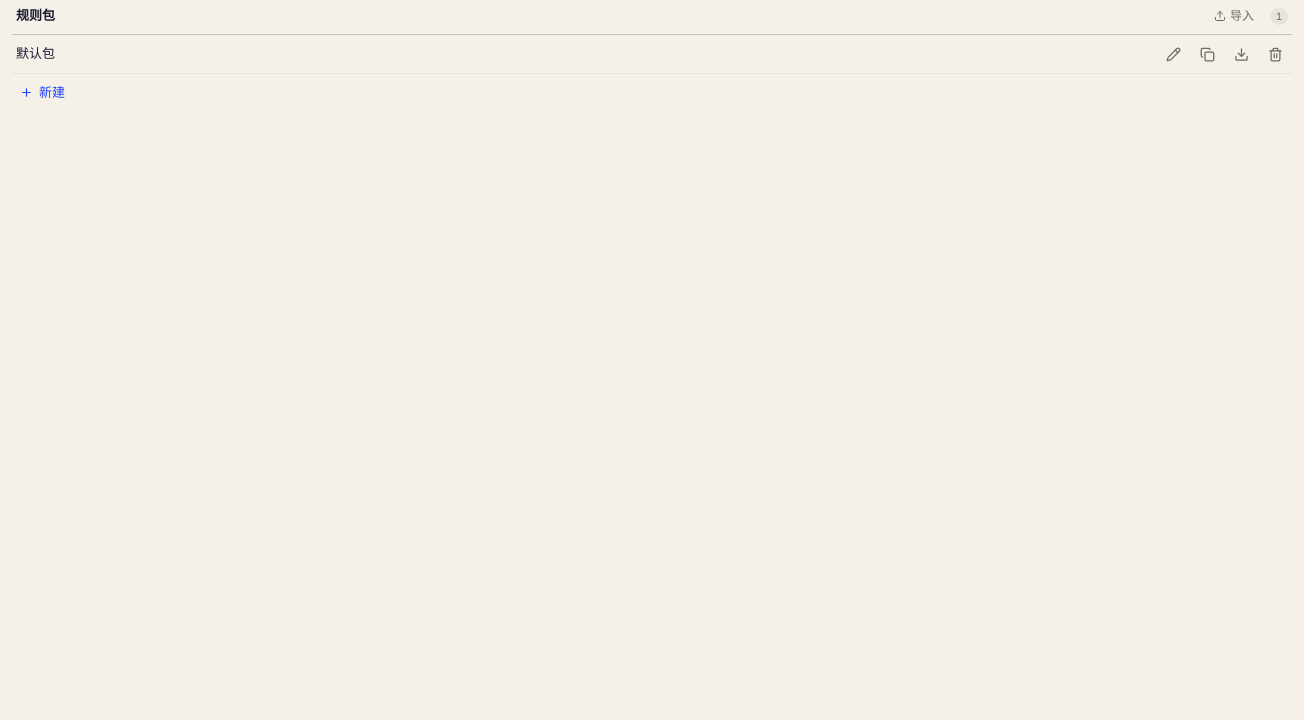
it: RuleLibrary › 顶栏语言下拉切换编辑语言，字段值随之切换（单栏、不并排）
The image size is (1304, 720).
Click the button named "编辑 默认包" at x=1173, y=54, box [1160, 41, 1186, 67]
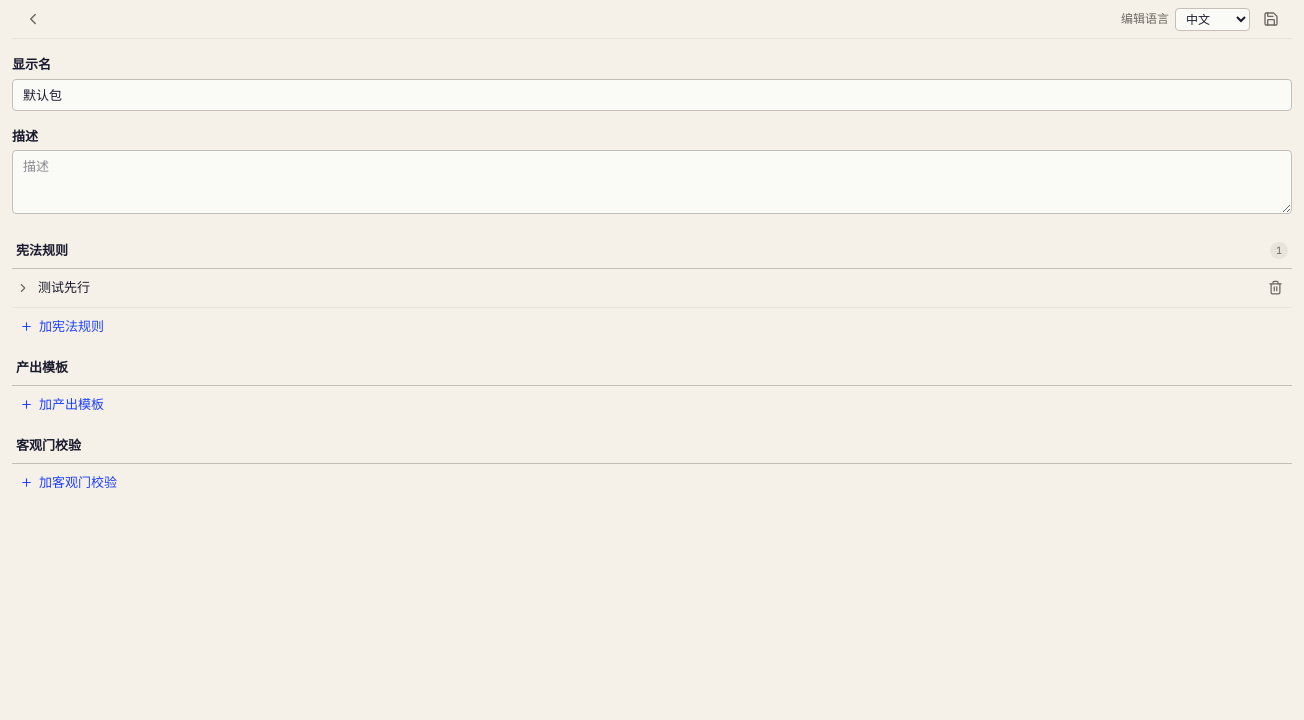
Now the field named "规则包名" holds "默认包", box [12, 78, 1292, 110]
切到 English → 同一个输入框显示英文值（不是新增一栏）
Select "English" in the dropdown named "选择要编辑的语言" at x=1212, y=19, box [1175, 8, 1250, 30]
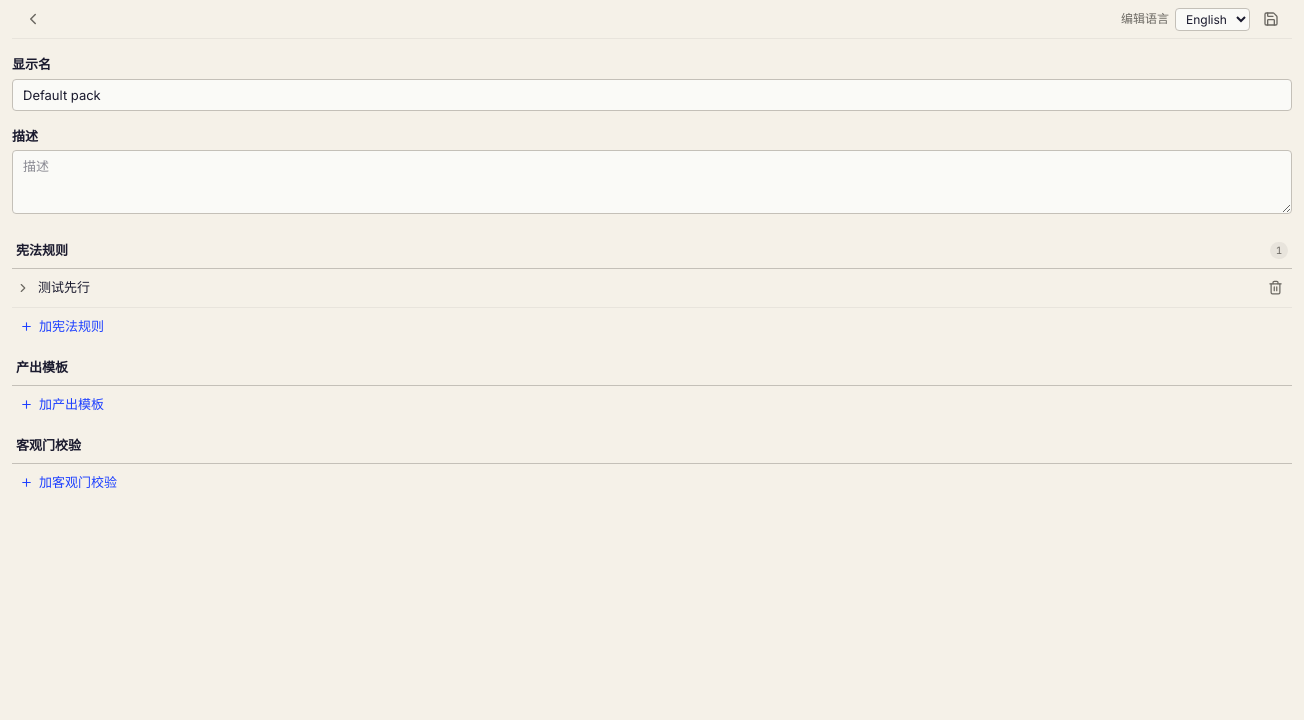
Now the field named "规则包名" holds "Default pack", box [12, 78, 1292, 110]
